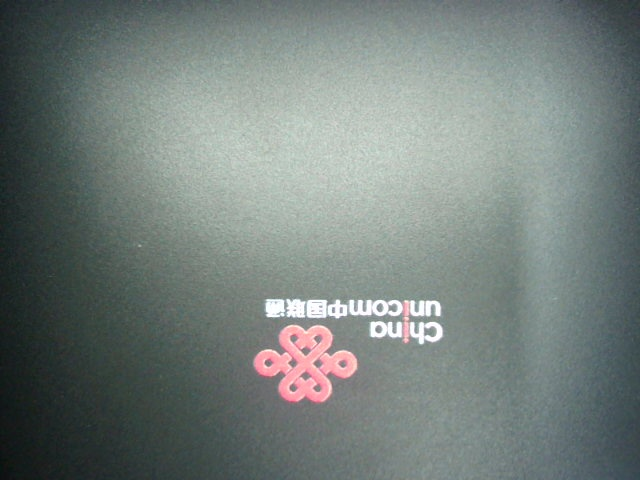AC_ChinaUnicom: (222, 277, 448, 405)
